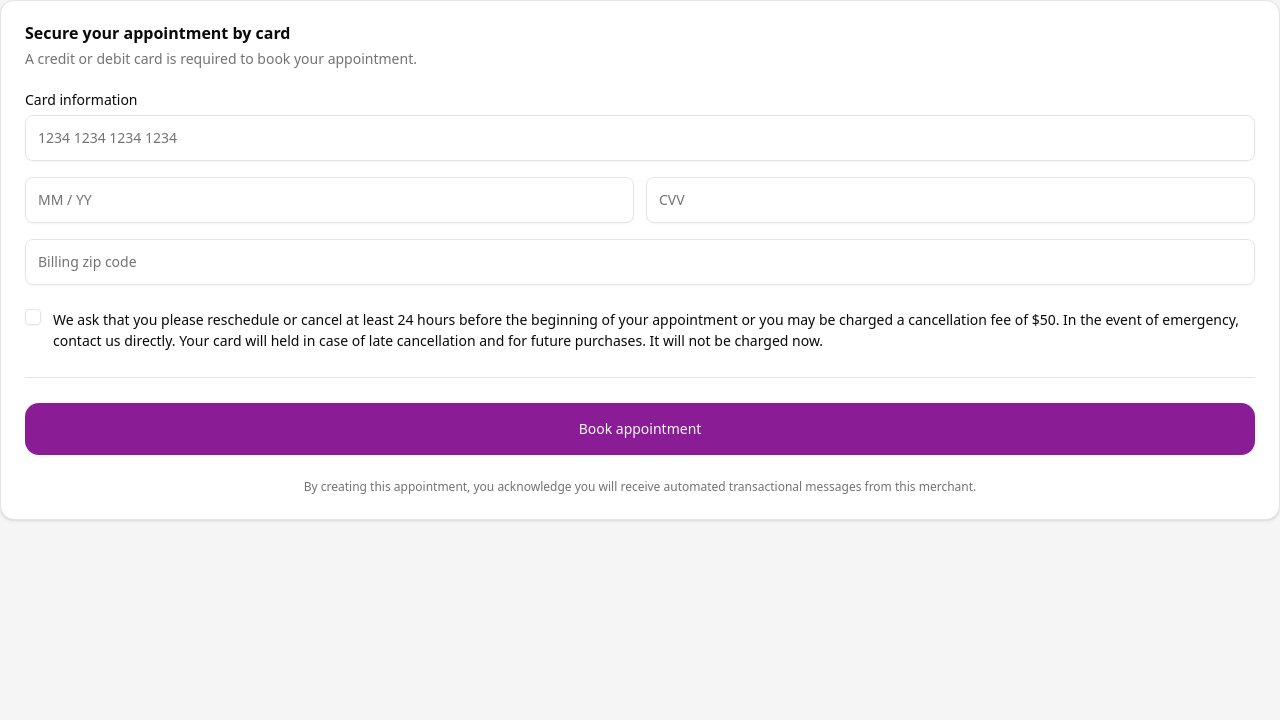
Test case: PaymentDetailsForm › shows policy error when all fields valid but checkbox unchecked
Step 1. Type "4111111111111111" into the field with placeholder "1234 1234 1234 1234" → (640, 138), box 25,115 -> 1255,161
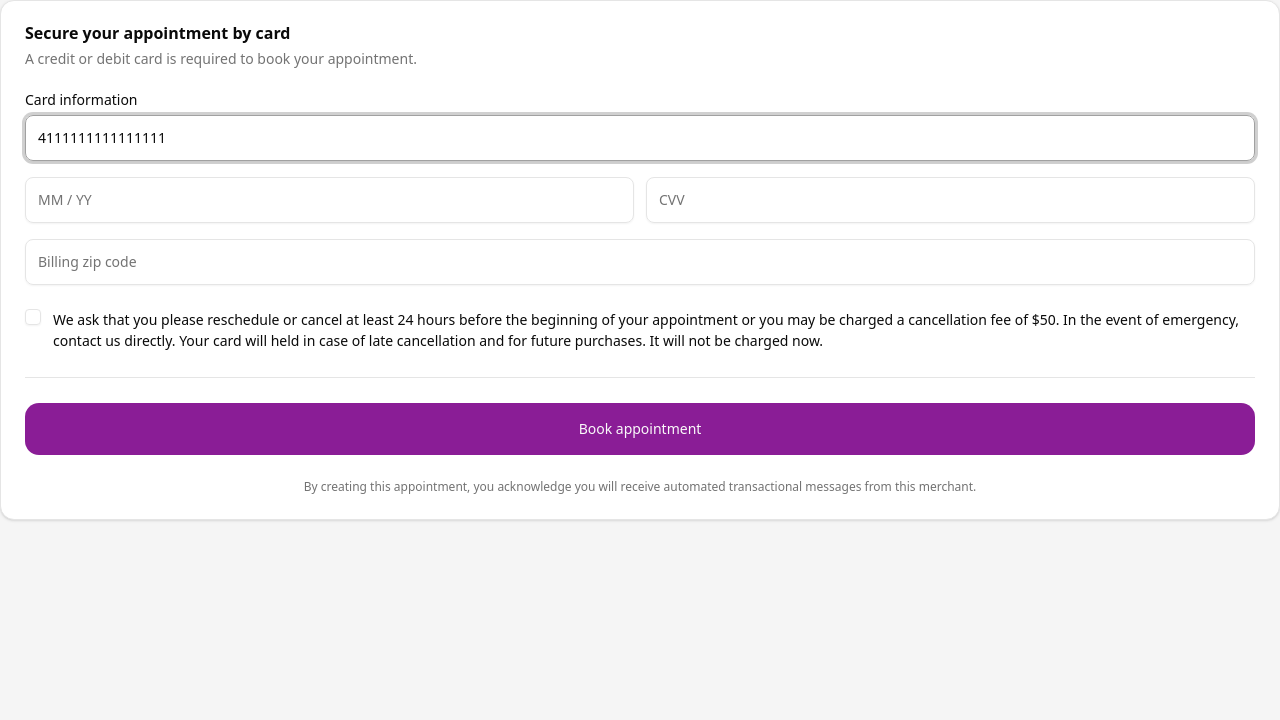
Step 2. Type "12/25" into the field with placeholder "MM / YY" → (330, 200), box 25,177 -> 634,223
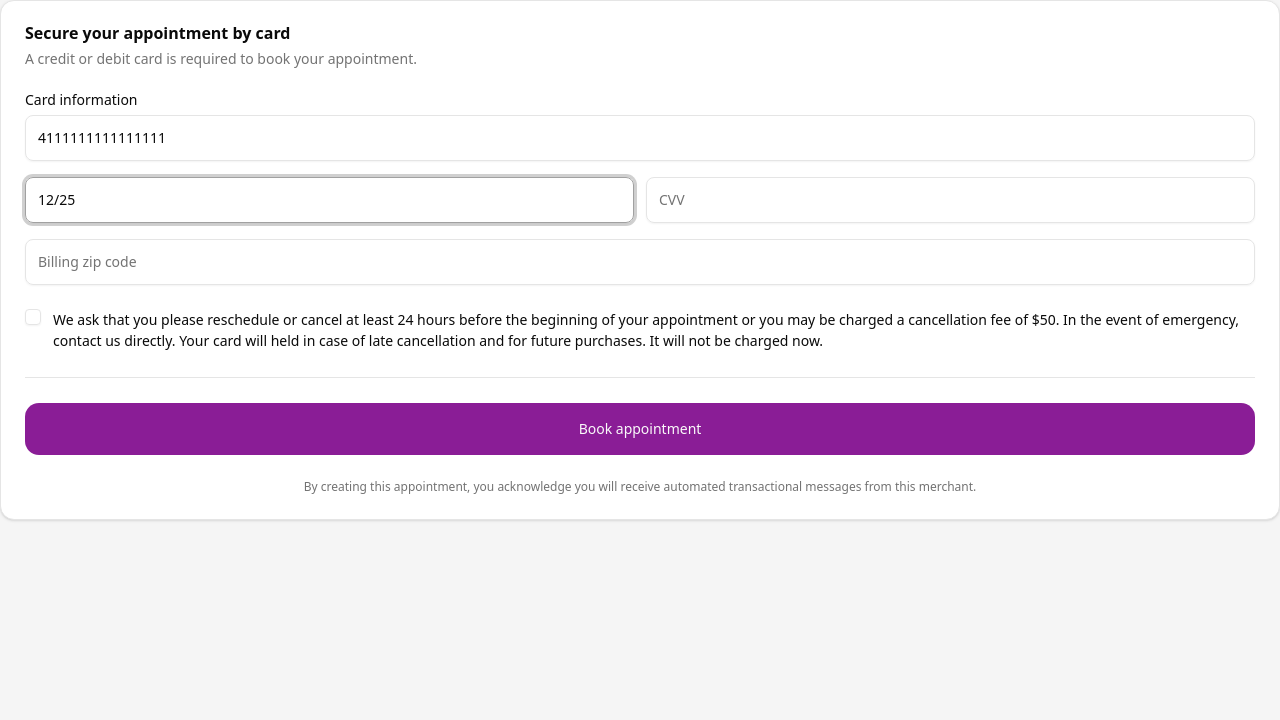
Step 3. Type "123" into the field with placeholder "CVV" → (950, 200), box 646,177 -> 1255,223
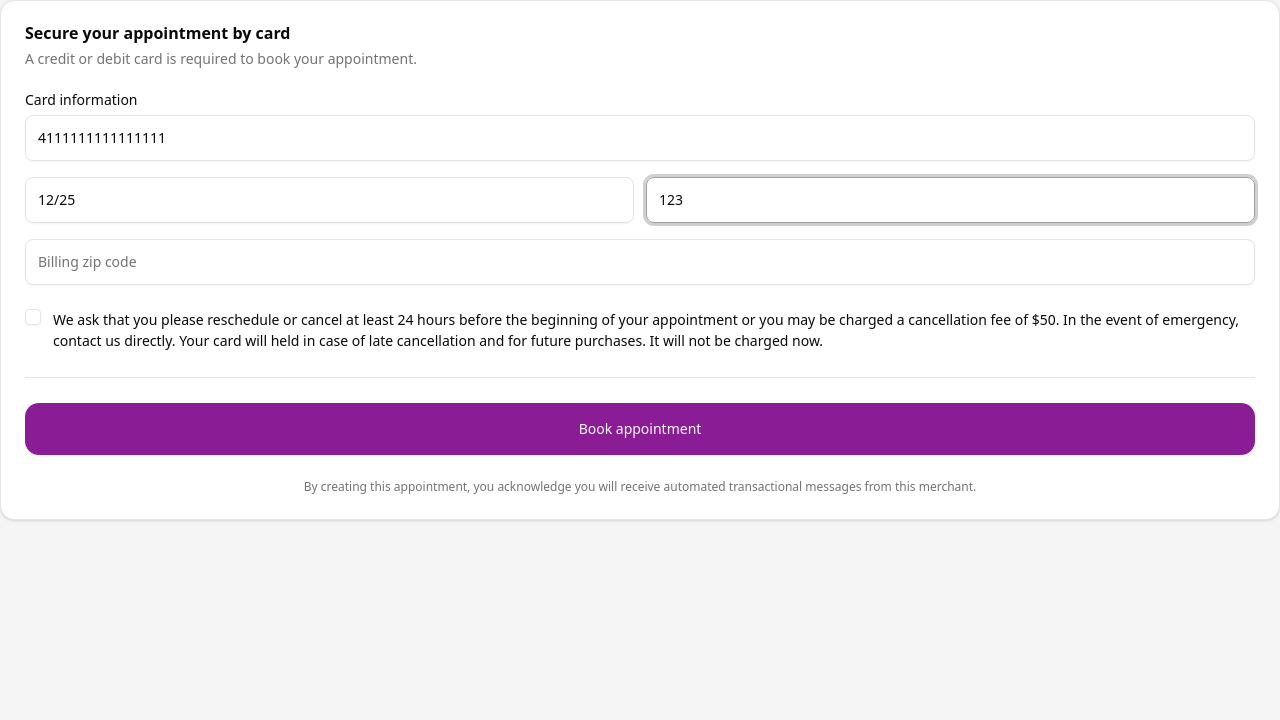
Step 4. Type "12345" into the field with placeholder "Billing zip code" → (640, 262), box 25,239 -> 1255,285
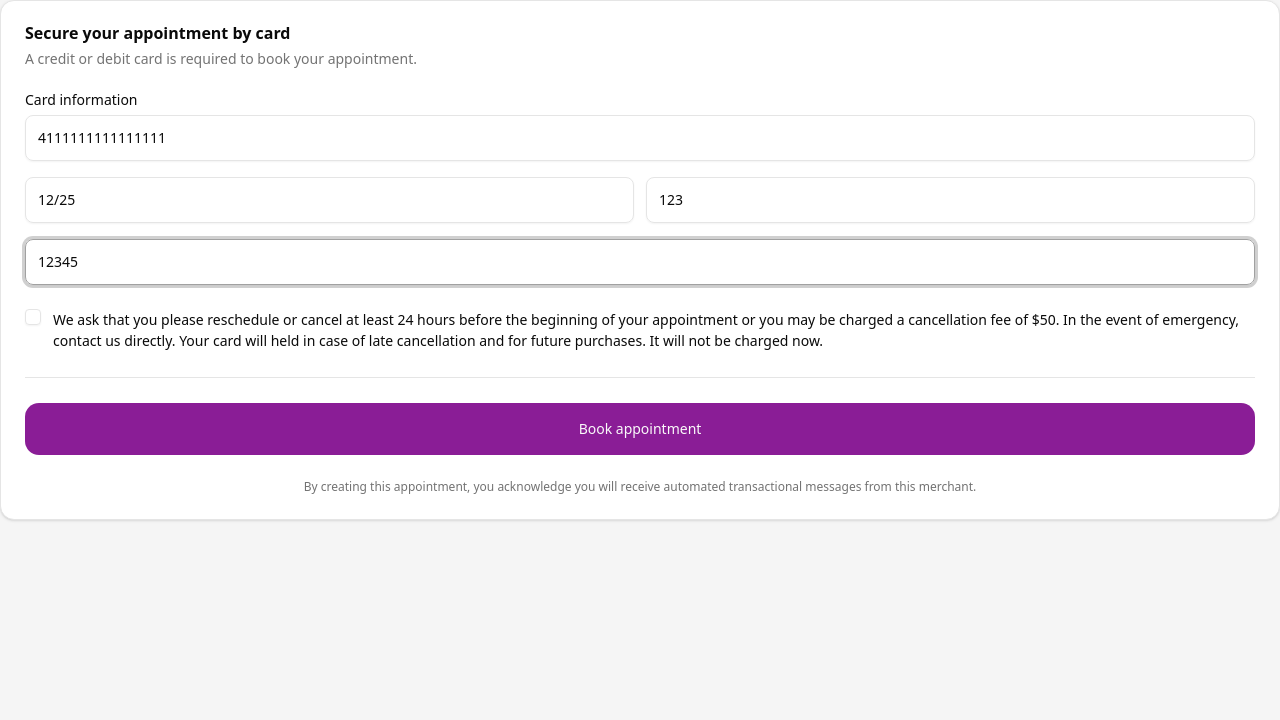
Step 5. Click the button "Book appointment" → (640, 429), box 25,403 -> 1255,455
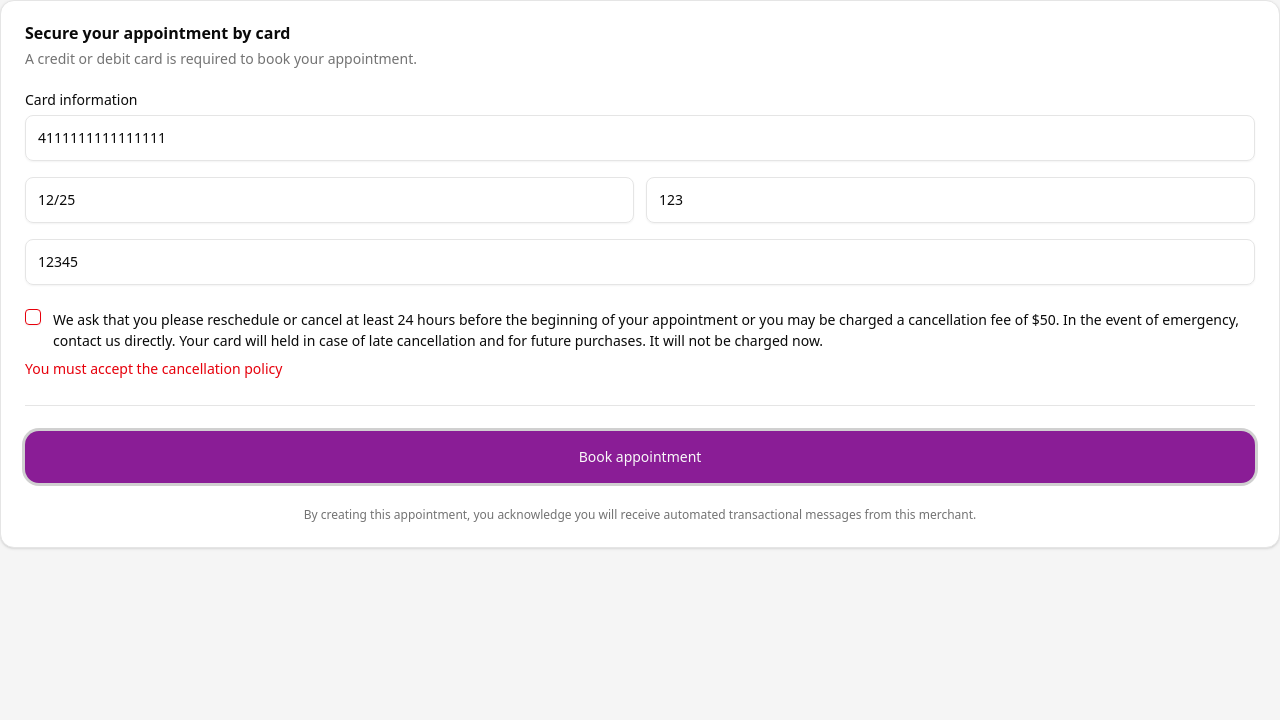
Result: the text "You must accept the cancellation policy" is shown at 25,359 -> 282,378
